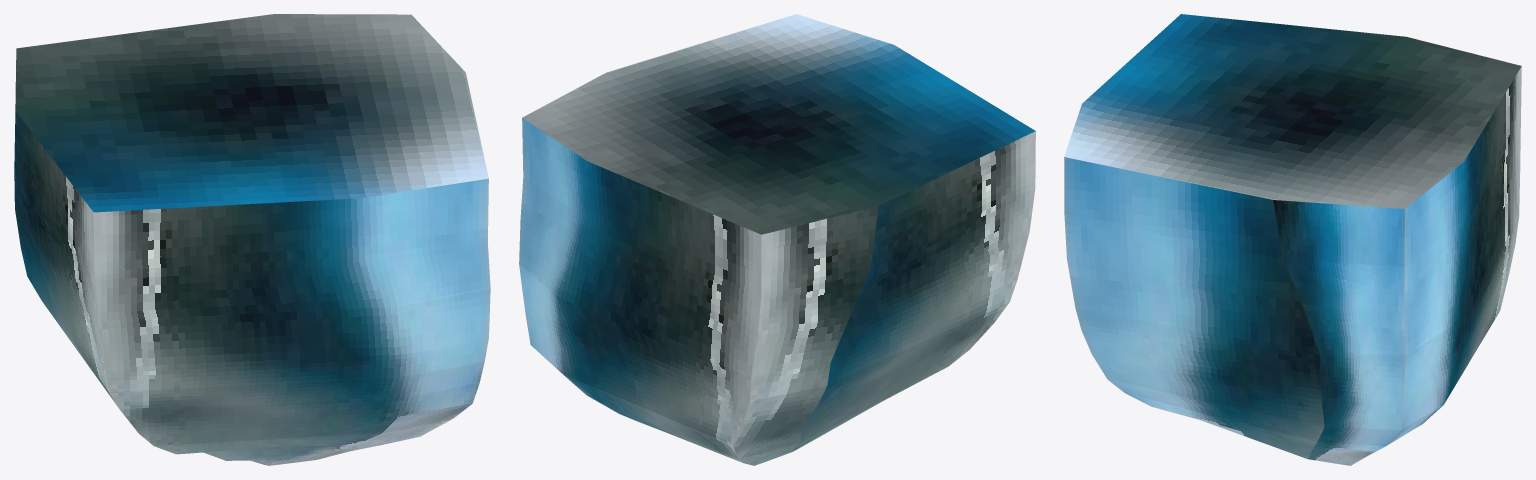
3 views of the same model, side by side, from view 1: azimuth 30°, elevation 25°; view 2: azimuth 150°, elevation 25°; view 3: azimuth 270°, elevation 25° (orthographic). The views are drawn at different scales.
Parts seen in each view (by area): view 1: SPLICE_2.001; view 2: SPLICE_2.001; view 3: SPLICE_2.001.
Part boxes in pixels (x1=…): SPLICE_2.001: x1=14, y1=14, x2=490, y2=465; SPLICE_2.001: x1=519, y1=14, x2=1035, y2=465; SPLICE_2.001: x1=1064, y1=14, x2=1521, y2=465.
Bounding box in the file's own units: 1.17 × 0.9104 × 1.16.
Materials: 1 (1 with a texture image).
